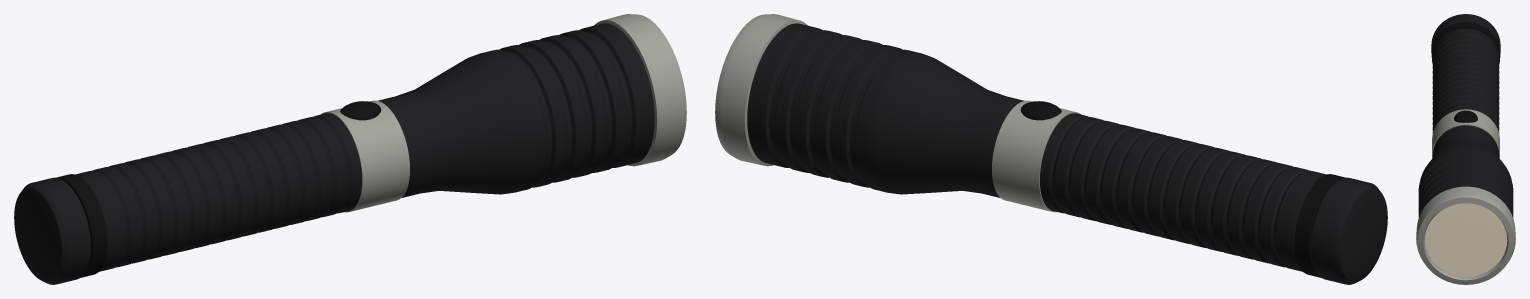
File: vm_flashlight_on.glb
The picture shows the model from 3 angles, left to right: view 1: azimuth 30°, elevation 25°; view 2: azimuth 150°, elevation 25°; view 3: azimuth 270°, elevation 25°; orthographic projection. The views are drawn at different scales.
Parts seen in each view (by area): view 1: schaft, endkappe, ring, schalterring, gummiring, schalter; view 2: schaft, endkappe, ring, schalterring, gummiring, schalter; view 3: schaft, glas, ring, schalterring, endkappe, gummiring, schalter.
Part boxes in pixels (bbox=[...]): schaft: bbox=[75, 23, 654, 271]; endkappe: bbox=[14, 177, 90, 284]; ring: bbox=[594, 14, 686, 166]; schalterring: bbox=[321, 100, 409, 212]; gummiring: bbox=[56, 174, 107, 277]; schalter: bbox=[340, 101, 381, 120]; schaft: bbox=[747, 23, 1326, 271]; endkappe: bbox=[1311, 177, 1387, 284]; ring: bbox=[715, 14, 807, 166]; schalterring: bbox=[992, 100, 1080, 212]; gummiring: bbox=[1294, 174, 1345, 277]; schalter: bbox=[1020, 101, 1061, 120]; schaft: bbox=[1418, 28, 1513, 257]; glas: bbox=[1424, 203, 1507, 276]; ring: bbox=[1416, 186, 1515, 284]; schalterring: bbox=[1432, 109, 1499, 157]; endkappe: bbox=[1431, 14, 1500, 52]; gummiring: bbox=[1431, 22, 1500, 64]; schalter: bbox=[1454, 110, 1477, 122].
Bounding box in the file's own units: 0.234 × 0.0496 × 0.0496.
